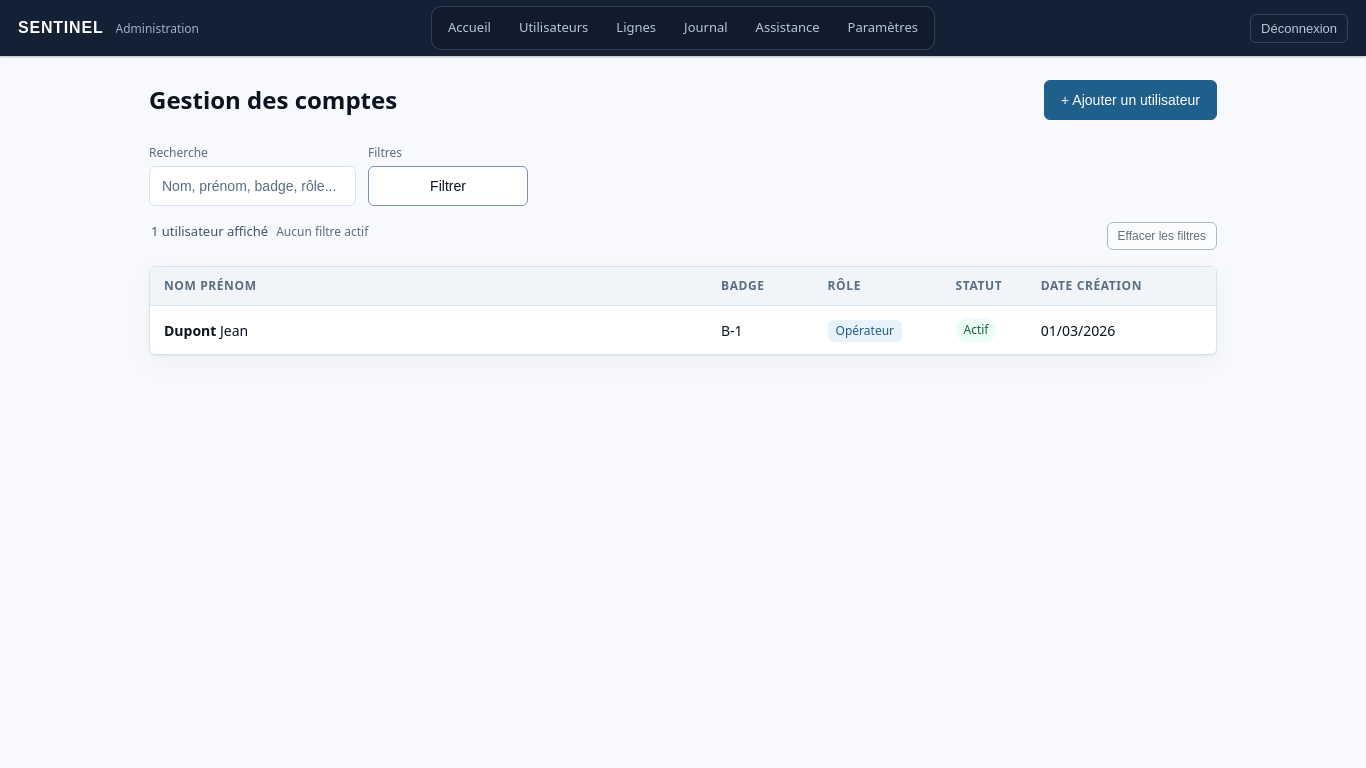
Scenario: UserListPage — filtre de rôle (RC5-8) › le filtre Role ne propose que les trois rôles humains standards
This screenshot has width=1366, height=768.
Check: the text "Dupont" is shown, box [164,320,216,340]
Click the button "Filtrer" at [448, 186], box [368,166,528,206]
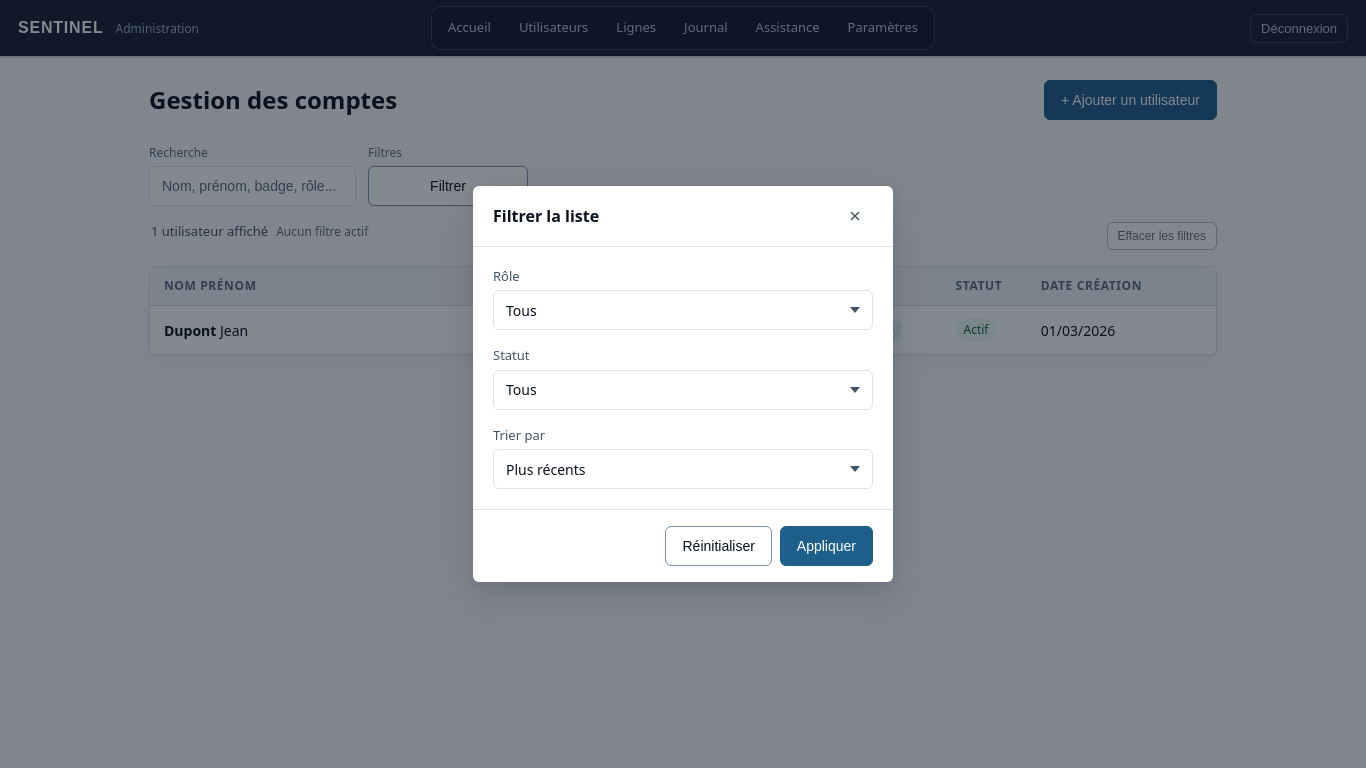
Click the dropdown named "Rôle" at [521, 310], box [493,290,873,330]
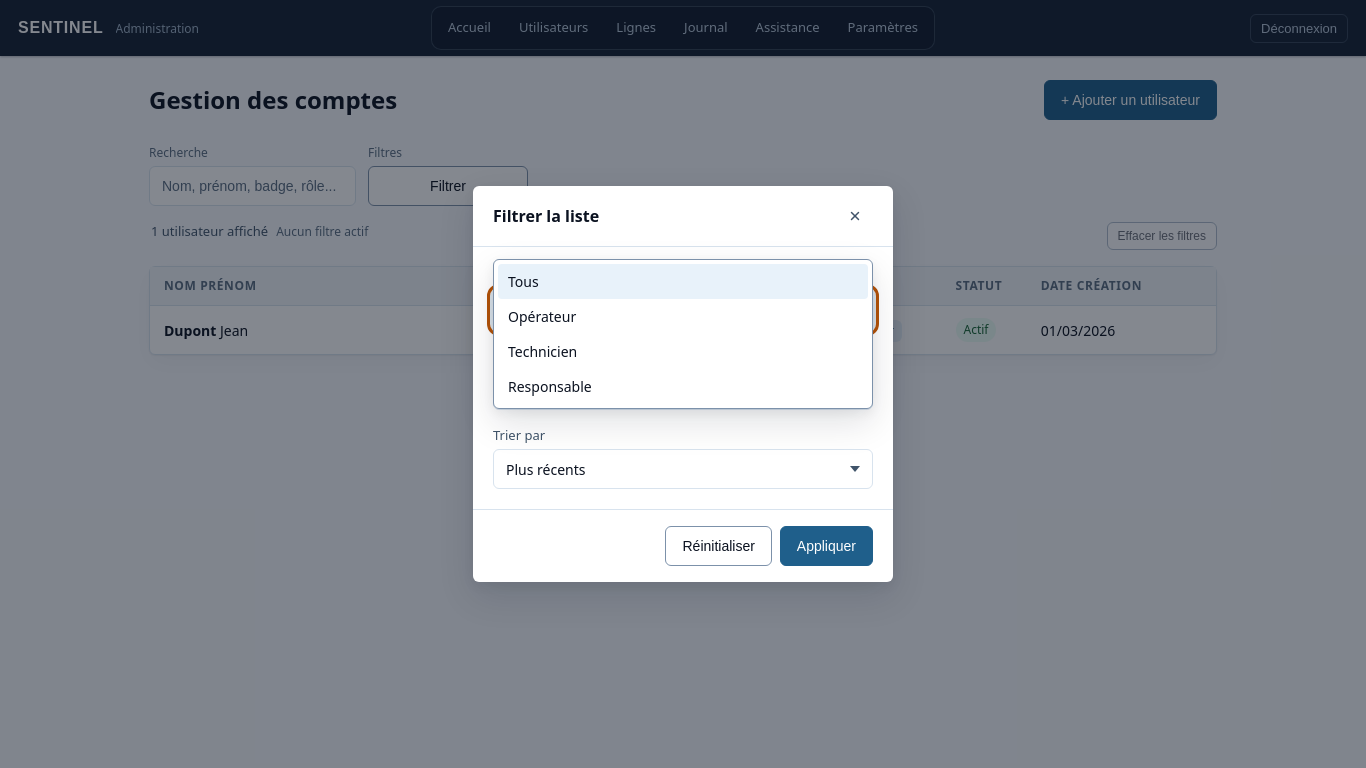
Check: the option "Tous" is shown, box [498,264,868,299]
Check: the option "Opérateur" is shown, box [498,299,868,334]
Check: the option "Technicien" is shown, box [498,334,868,369]
